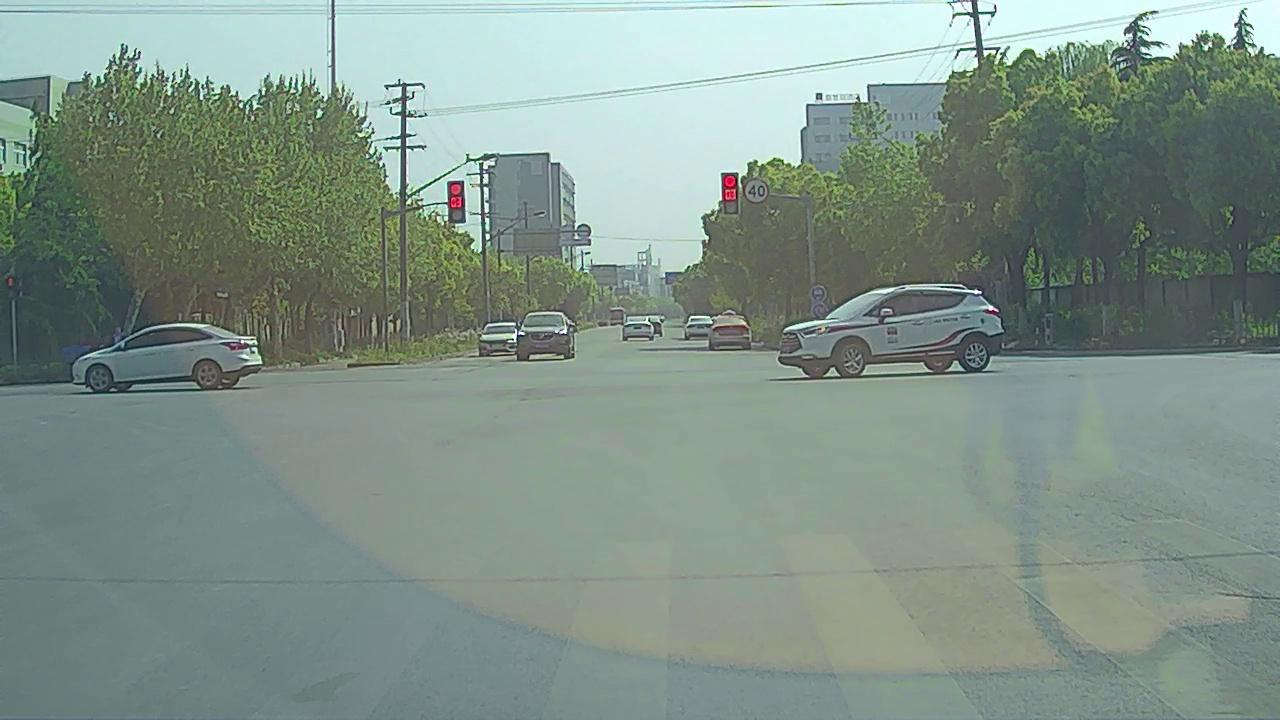traffic_light: (447, 180, 465, 223), (723, 174, 738, 215)
